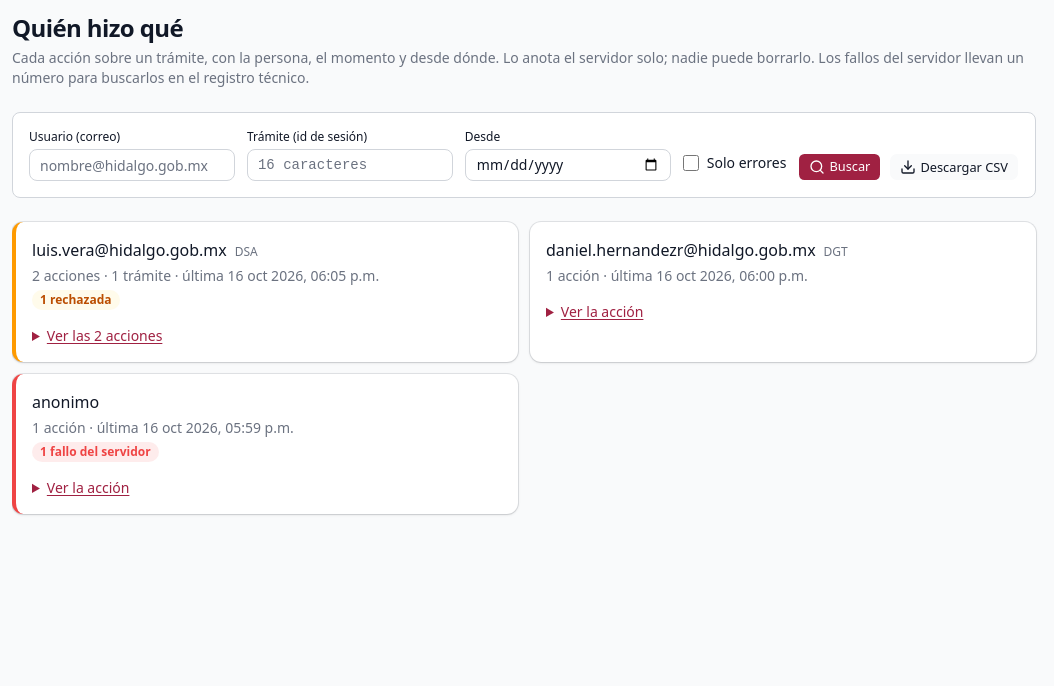
Test: una tarjeta por persona con sus cuentas, y el detalle plegado en castellano
This screenshot has width=1054, height=686.
Expected: the element named "luis.vera@hidalgo.gob.mx" shows "2 acciones", [32,266,100,285]
Expected: the element named "luis.vera@hidalgo.gob.mx" shows "1 trámite", [100,266,171,285]
Click the heading "Ver las 2 acciones" at point(105, 336), box [47,326,162,345]
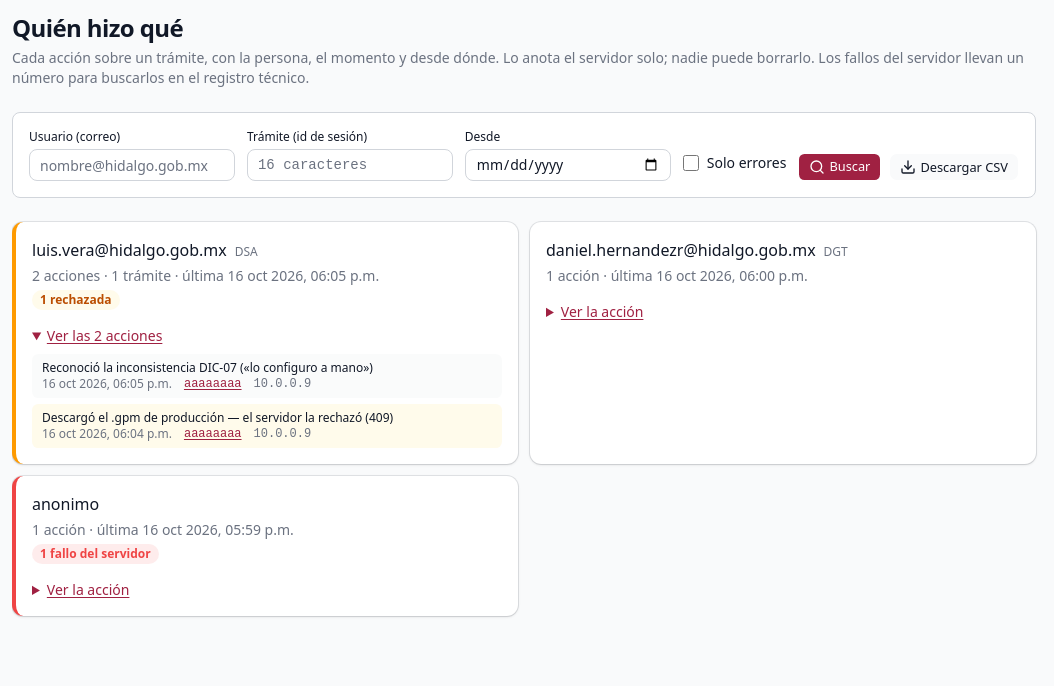
Expected: the 2nd list item is shown, [32,354,502,398]
Expected: the 2nd list item shows "Reconoció la inconsistencia DIC-07", [42,359,373,376]
Expected: the 2nd list item shows "10.0.0.9", [254,377,311,391]
Click the heading "Ver la acción" below "1 fallo del servidor" at point(88, 590), box [47,580,129,599]
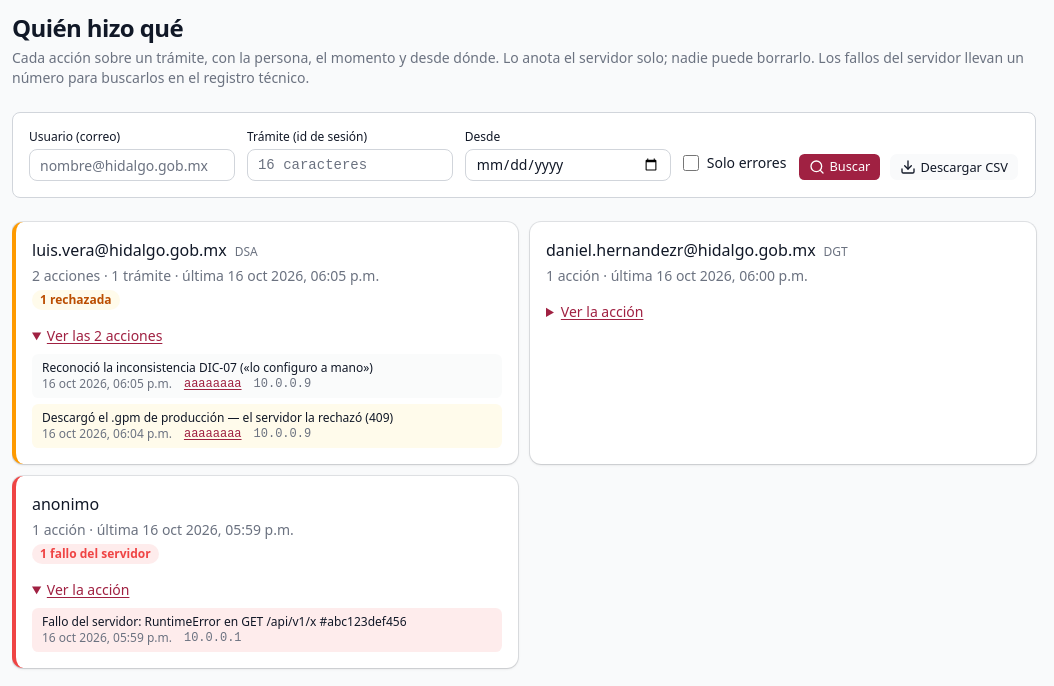
Expected: the element named "anonimo" shows "#abc123def456", [42,613,406,630]
